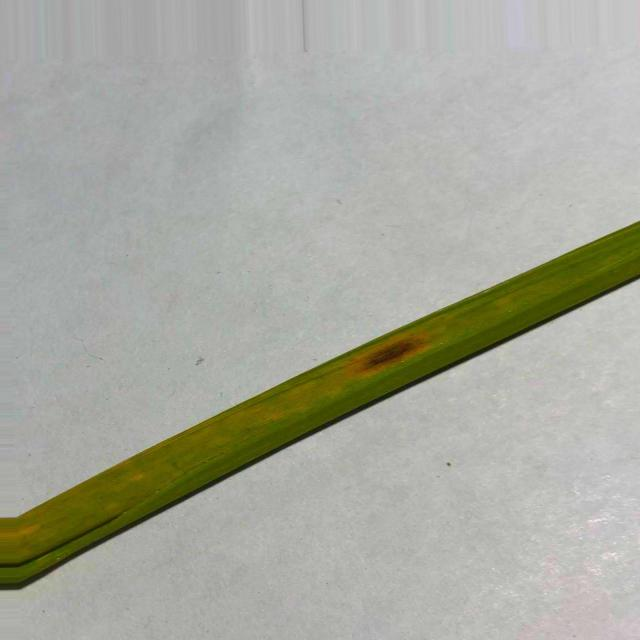Brown_Spot: (340, 322, 426, 378)
